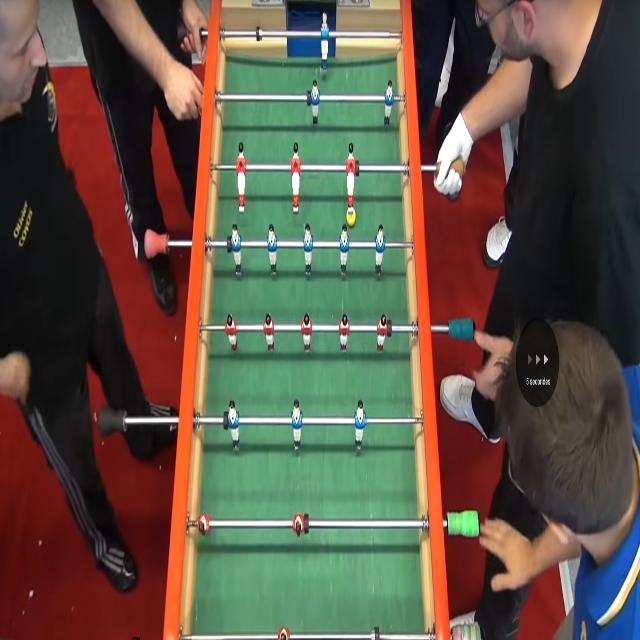ball: (339, 204, 364, 227)
